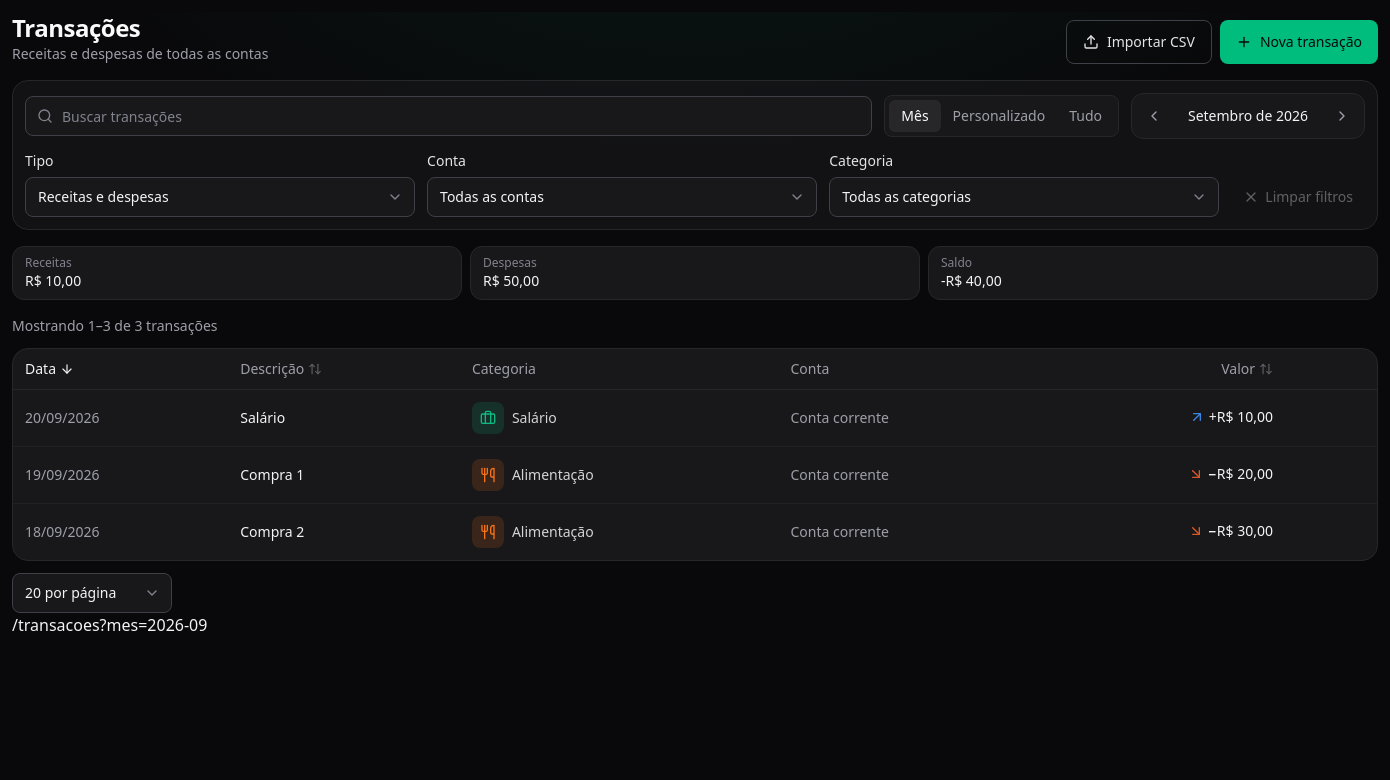
Test: TransactionsPage › searches after the user stops typing, with a single request
Expected: the table named "Transações" is shown, [13,349,1377,560]
Type "mercado" into the search field labelled "Buscar transações". click: (449, 116)
box: [25,96,872,136]
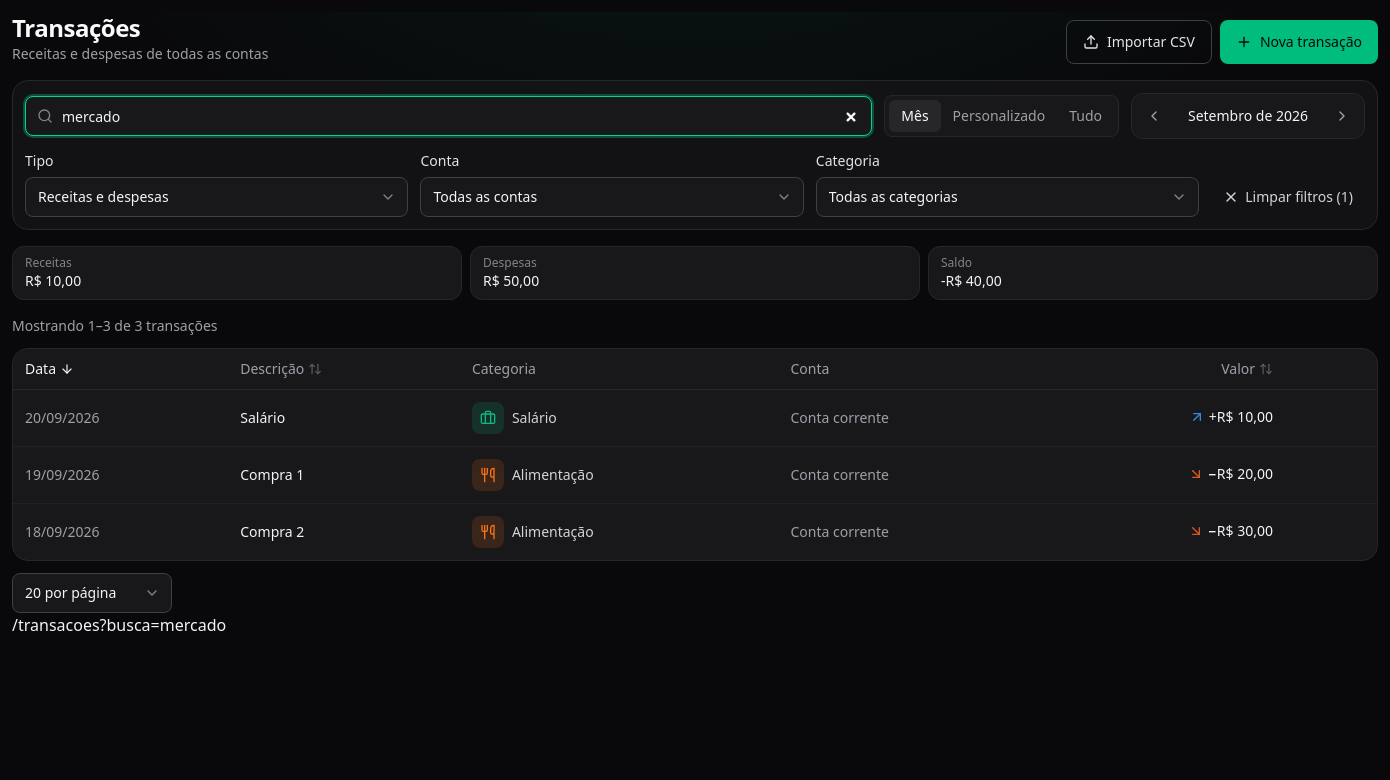
Now the text with test id "location" shows "busca=mercado", box [100,614,226,636]
